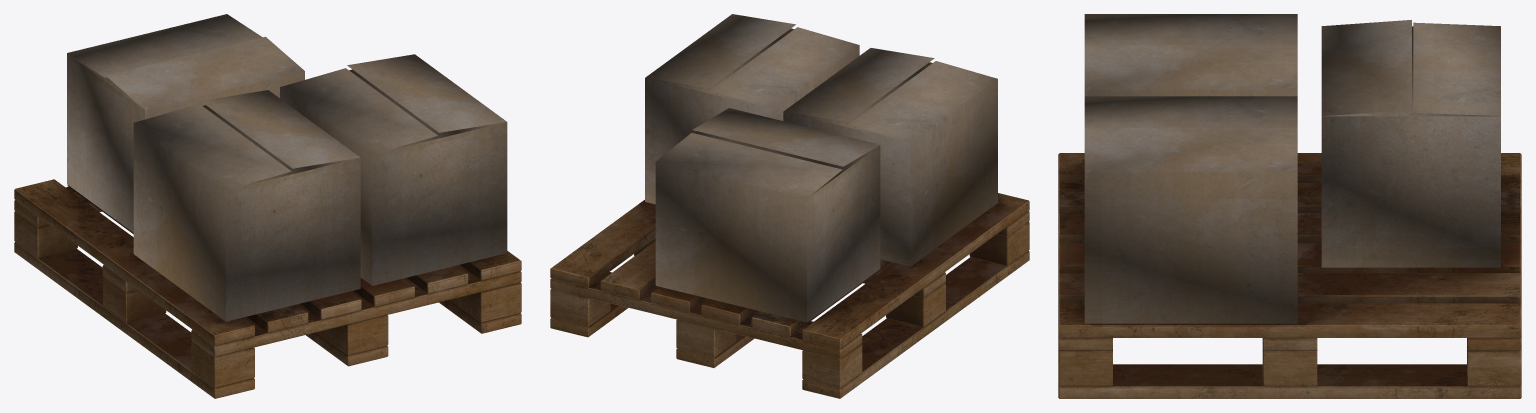
3 views of the same model, side by side, from view 1: azimuth 30°, elevation 25°; view 2: azimuth 150°, elevation 25°; view 3: azimuth 270°, elevation 25° (orthographic). The views are drawn at different scales.
Visible parts, largest first — view 1: FG Boxes.Shape; view 2: FG Boxes.Shape; view 3: FG Boxes.Shape.
Part boxes in pixels (x1=…): FG Boxes.Shape: x1=14, y1=14, x2=521, y2=398; FG Boxes.Shape: x1=550, y1=14, x2=1029, y2=398; FG Boxes.Shape: x1=1058, y1=14, x2=1521, y2=398.
Size of the model in its own units: 90.54 by 56.43 by 102.
Materials: 2 (2 with a texture image).
